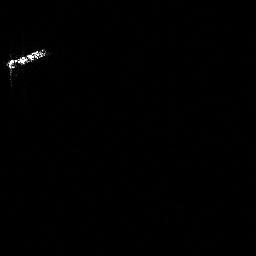ship: (7, 48, 48, 69)
